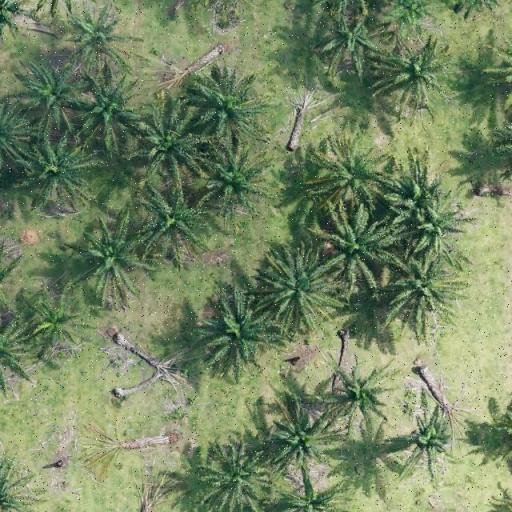Ganoderma: (66, 12, 129, 62), (406, 418, 456, 470), (392, 44, 440, 90), (32, 303, 78, 344)
